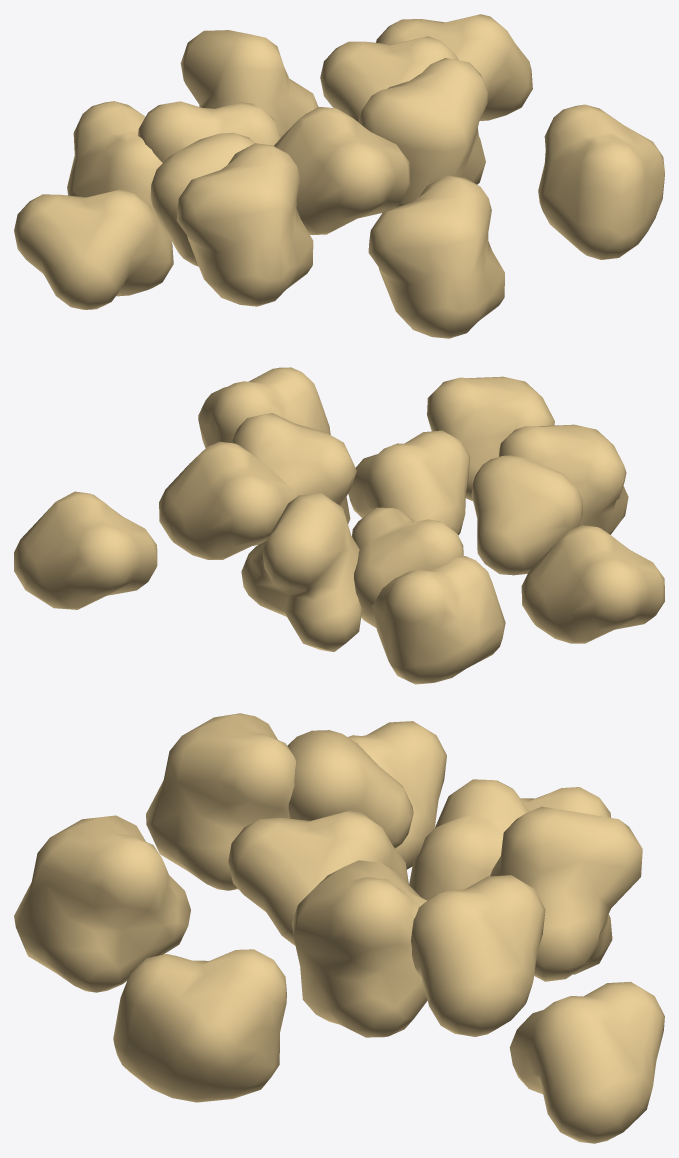
The model's file is palomitasSuelo.fbx.
3 renders of one model, top to bottom at view 1: azimuth 30°, elevation 25°; view 2: azimuth 150°, elevation 25°; view 3: azimuth 270°, elevation 25°, orthographic. The views are drawn at different scales.
Visible parts, largest first — view 1: Mball.046; view 2: Mball.046; view 3: Mball.046.
Part boxes in pixels (x1,y1,x2,y2): Mball.046: (14, 14, 664, 338); Mball.046: (14, 367, 664, 684); Mball.046: (14, 713, 664, 1143).
Bounding box in the file's own units: 115 × 32.7 × 95.75.
